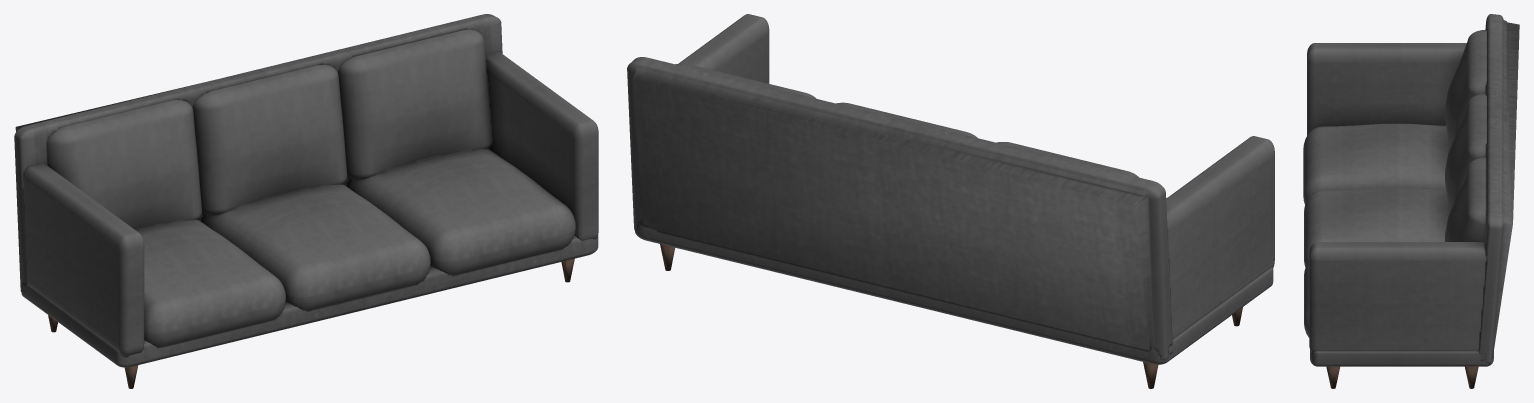
The model's file is cb-rochelle-gray_baked.glb.
The picture shows the model from 3 angles, left to right: view 1: azimuth 30°, elevation 25°; view 2: azimuth 150°, elevation 25°; view 3: azimuth 270°, elevation 25°; orthographic projection. The views are drawn at different scales.
Parts seen in each view (by area): view 1: Mesh_0.022; view 2: Mesh_0.022; view 3: Mesh_0.022.
Boxes of the visible parts, x1,y1,x2,y2 form: Mesh_0.022: [14, 14, 598, 388]; Mesh_0.022: [627, 14, 1274, 388]; Mesh_0.022: [1303, 14, 1519, 388].
Size of the model in its own units: 217 by 85.09 by 94.42.
1 material, 1 textured.
